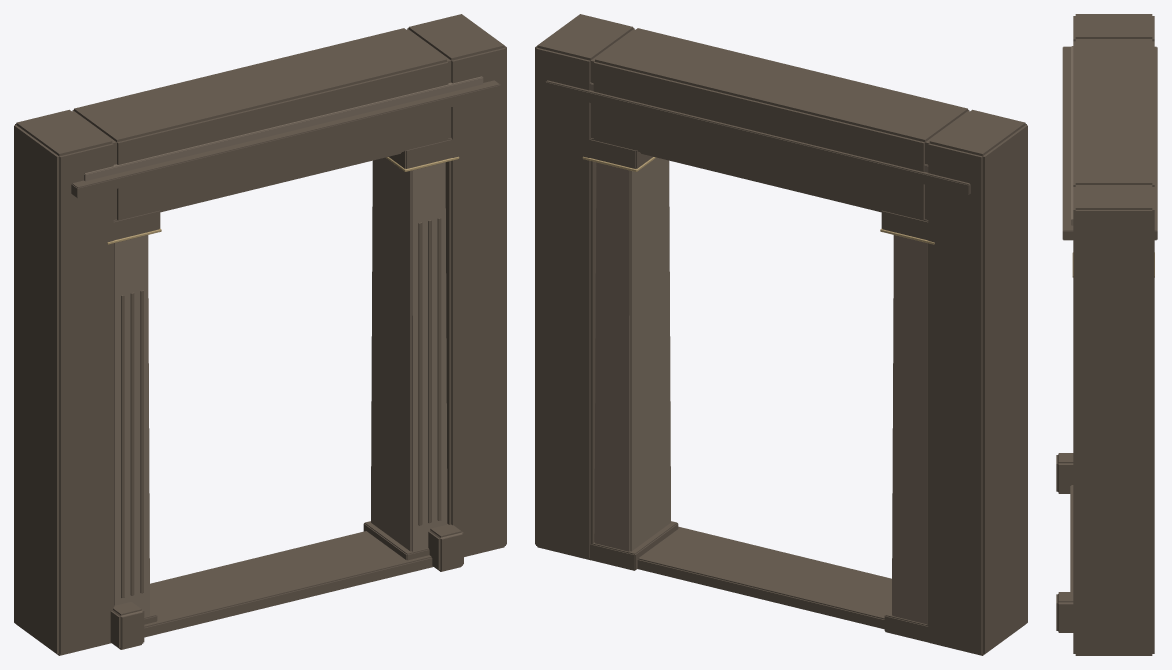
File: portal.glb
3 views of the same model, side by side, from view 1: azimuth 30°, elevation 25°; view 2: azimuth 150°, elevation 25°; view 3: azimuth 270°, elevation 25° (orthographic). The views are drawn at different scales.
Visible parts, largest first — view 1: portal; view 2: portal; view 3: portal.
Part boxes in pixels (left/top/right/bottom): portal: left=14, top=14, right=506, bottom=655; portal: left=535, top=14, right=1027, bottom=655; portal: left=1056, top=14, right=1157, bottom=655.
Size of the model in its own units: 6.05 by 6.45 by 1.32.
